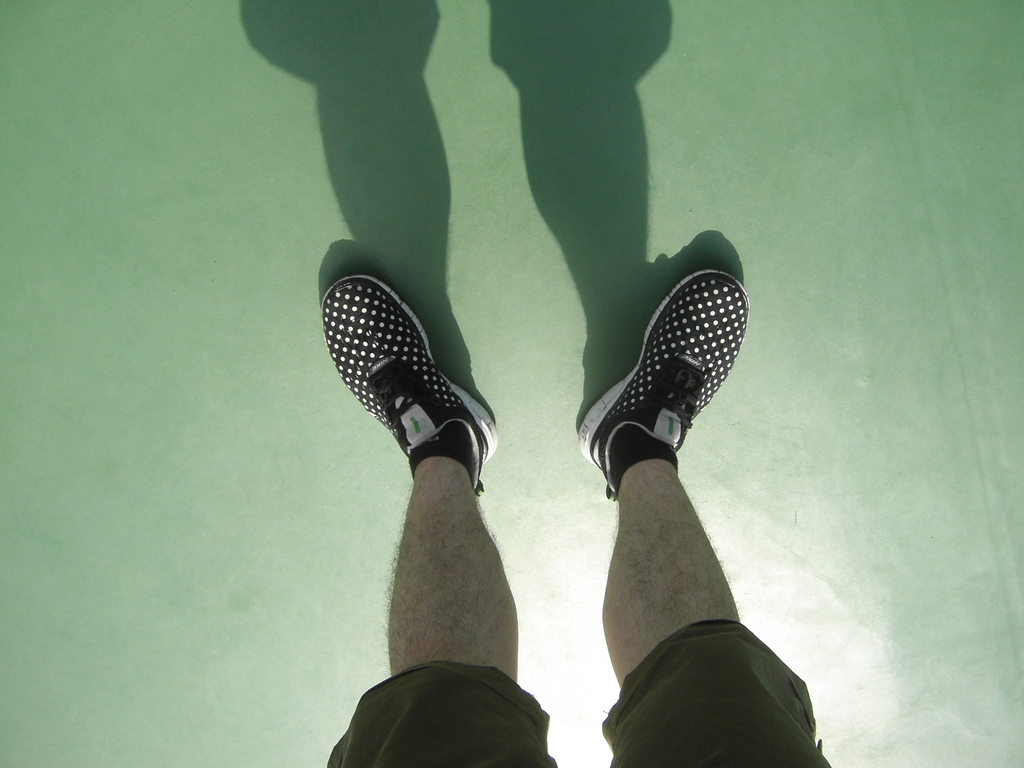Person: (319, 268, 833, 767)
